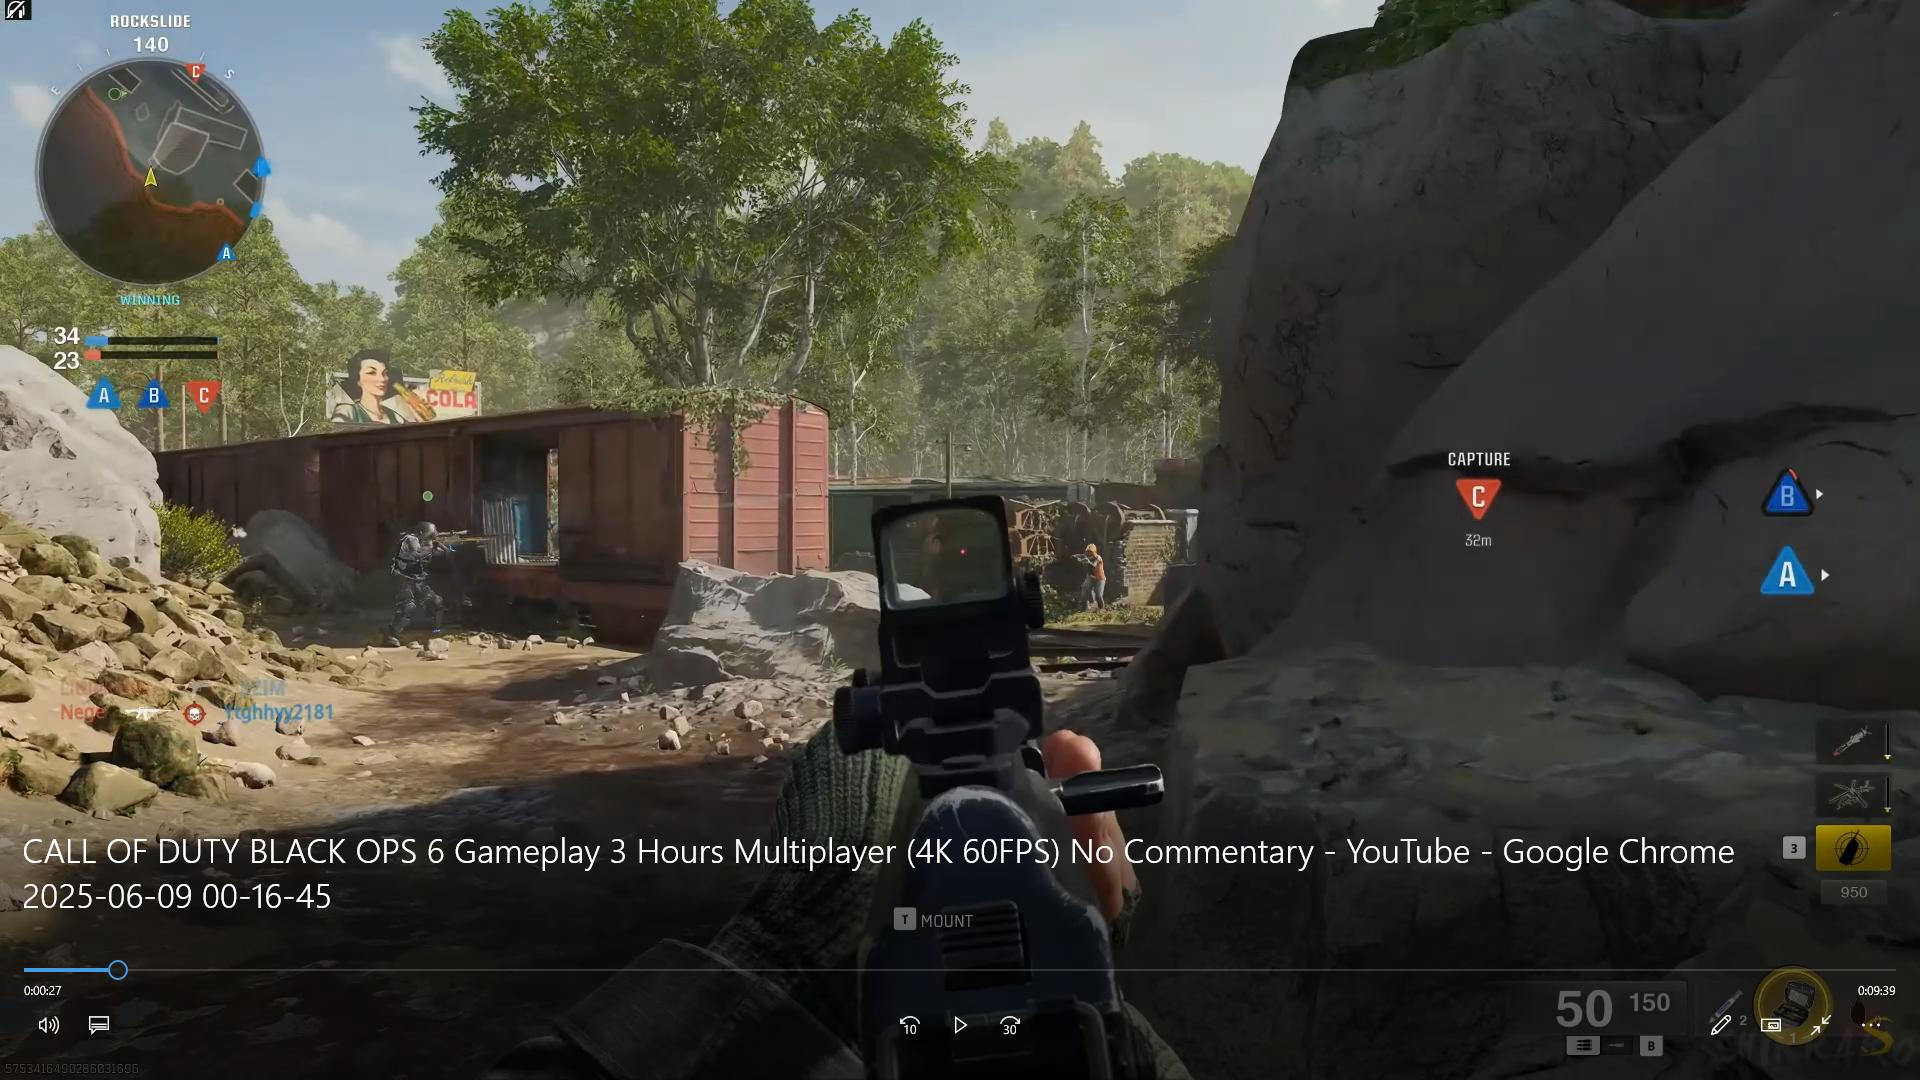Enemy: (392, 510, 455, 641), (1067, 535, 1114, 612)
